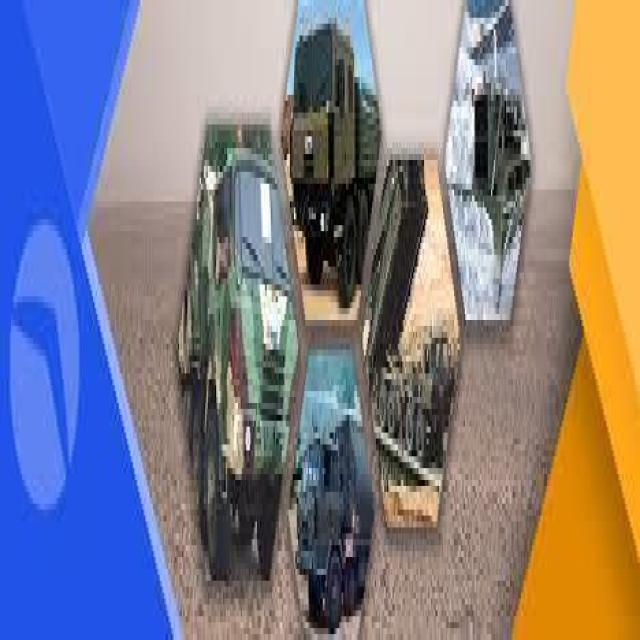Tanks: (164, 24, 543, 616)
